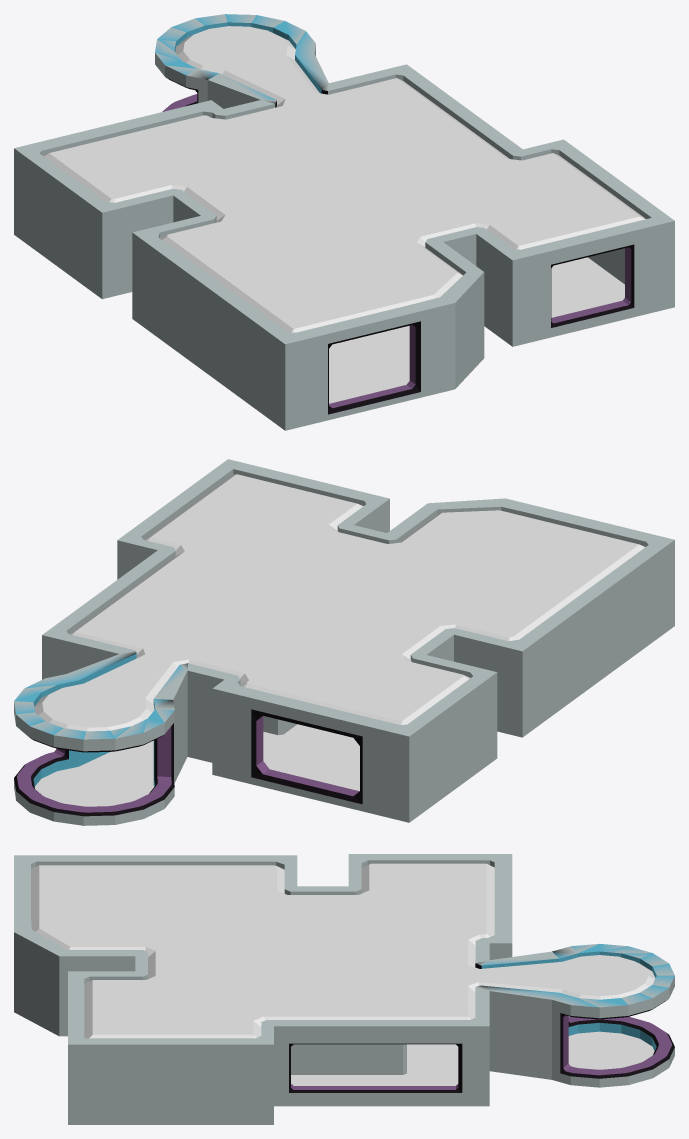
Rendered from escenario 2.fbx.
3 renders of one model, top to bottom at view 1: azimuth 30°, elevation 25°; view 2: azimuth 150°, elevation 25°; view 3: azimuth 270°, elevation 25°, orthographic. The views are drawn at different scales.
Visible parts, largest first — view 1: ceiling, walls, floor; view 2: ceiling, walls, floor; view 3: ceiling, walls, floor.
Part boxes in pixels (x1=…): ceiling: x1=43, y1=26, x2=645, y2=332; walls: x1=14, y1=14, x2=674, y2=430; floor: x1=329, y1=257, x2=624, y2=403; ceiling: x1=34, y1=474, x2=645, y2=731; walls: x1=14, y1=459, x2=674, y2=825; floor: x1=34, y1=724, x2=359, y2=806; ceiling: x1=31, y1=863, x2=655, y2=1038; walls: x1=14, y1=854, x2=674, y2=1124; floor: x1=291, y1=1031, x2=654, y2=1085.
Size of the model in its own units: 2847 by 558 by 4173.
